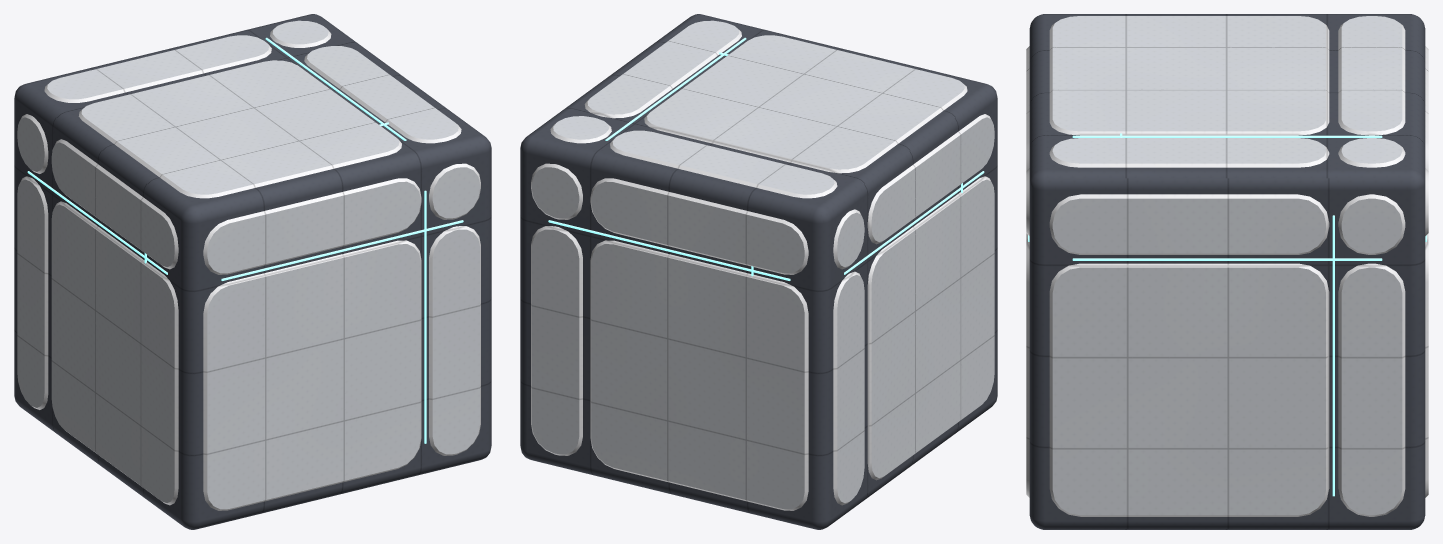
3 views of the same model, side by side, from view 1: azimuth 30°, elevation 25°; view 2: azimuth 150°, elevation 25°; view 3: azimuth 270°, elevation 25° (orthographic). The views are drawn at different scales.
Parts seen in each view (by area): view 1: R4B_Cube; view 2: R4B_Cube; view 3: R4B_Cube.
Boxes of the visible parts, left/top/right/bottom form: R4B_Cube: left=14, top=14, right=491, bottom=529; R4B_Cube: left=520, top=14, right=997, bottom=529; R4B_Cube: left=1026, top=14, right=1428, bottom=529.
Size of the model in its own units: 0.52 by 0.52 by 0.52.
4 materials, 3 textured.
